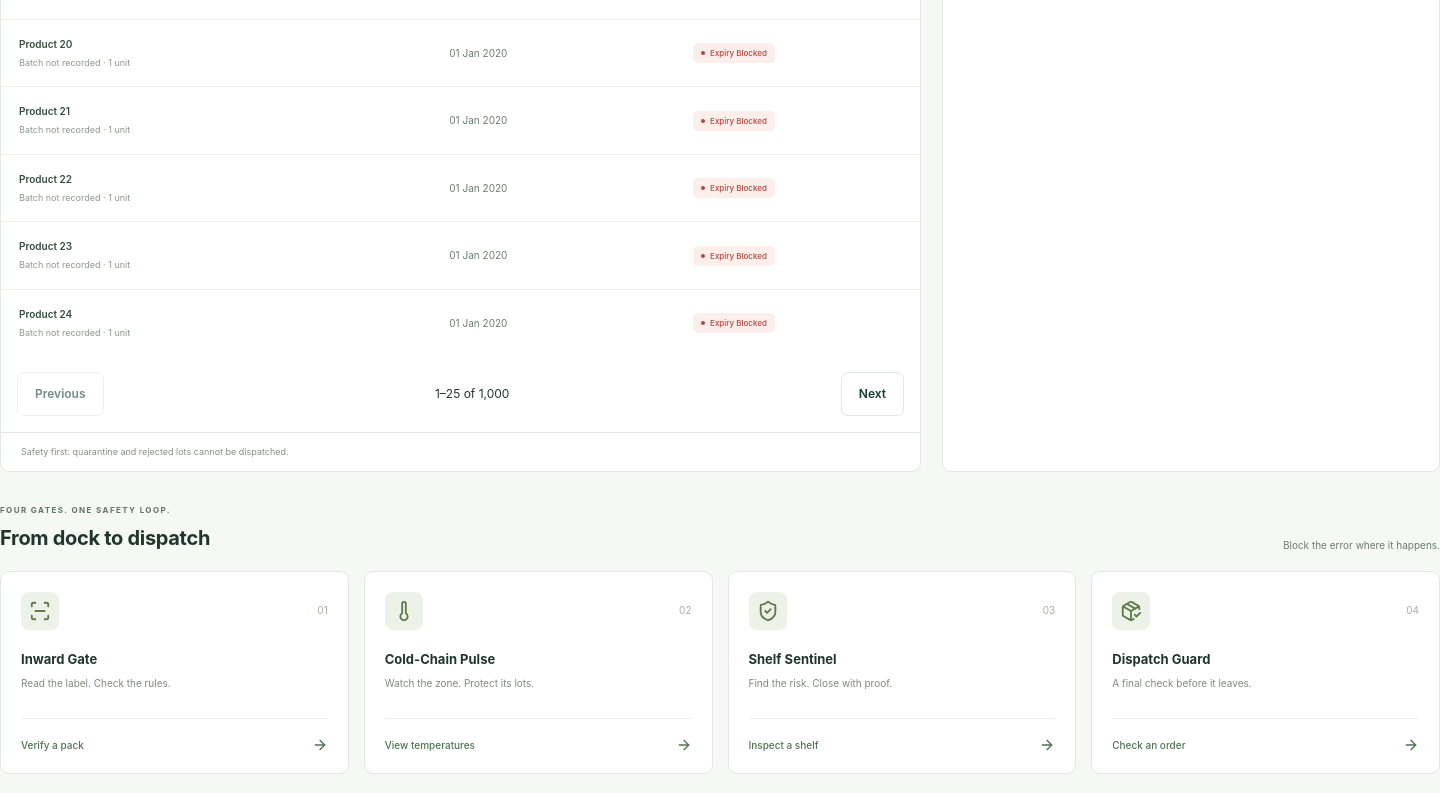
Test: shows expired accepted stock as blocked and paginates large lists
(page scrolled)
Click the button "Next" at [872, 394], box [841, 372, 904, 416]
(page scrolled)
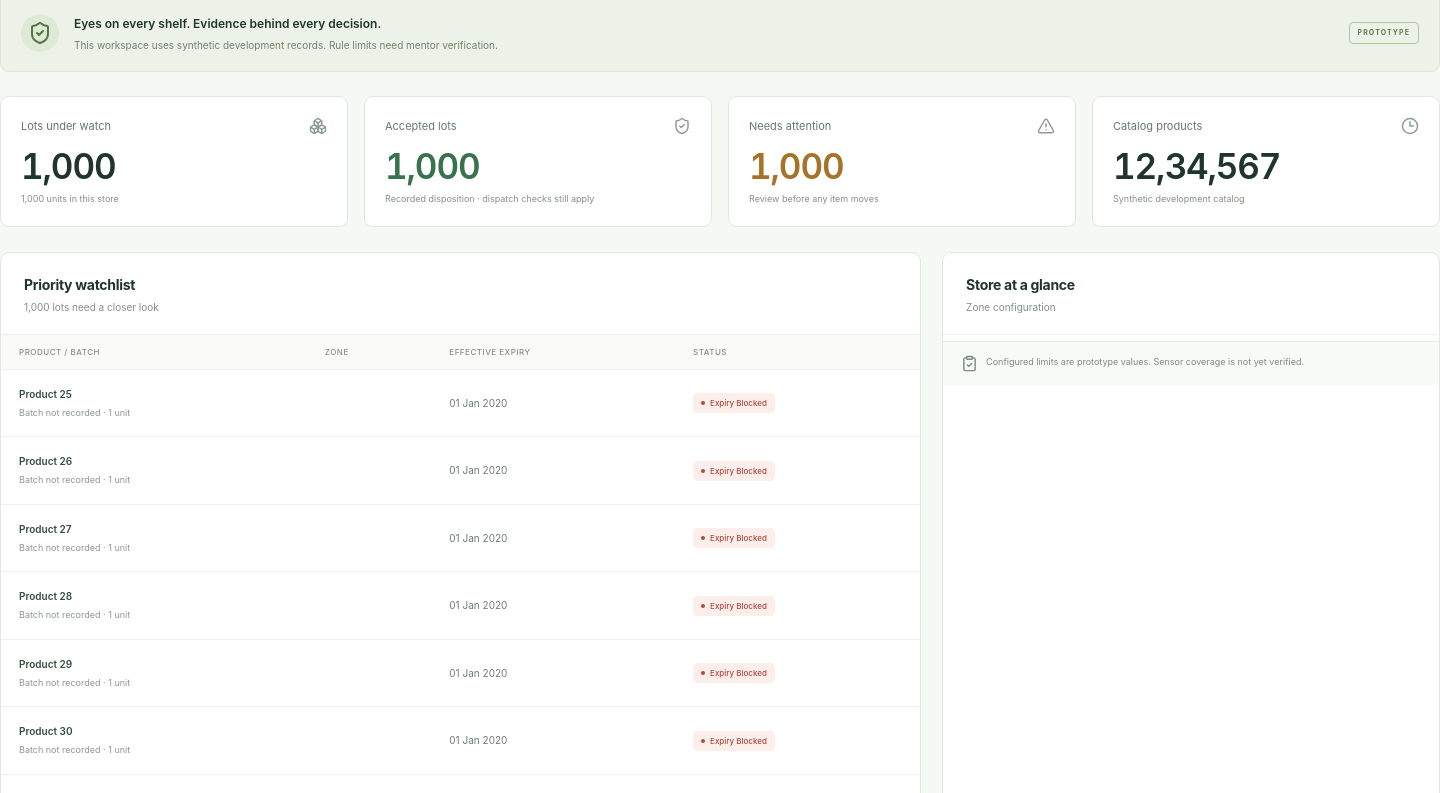
Check: the text "Product 25" is shown, box [19, 388, 72, 400]
